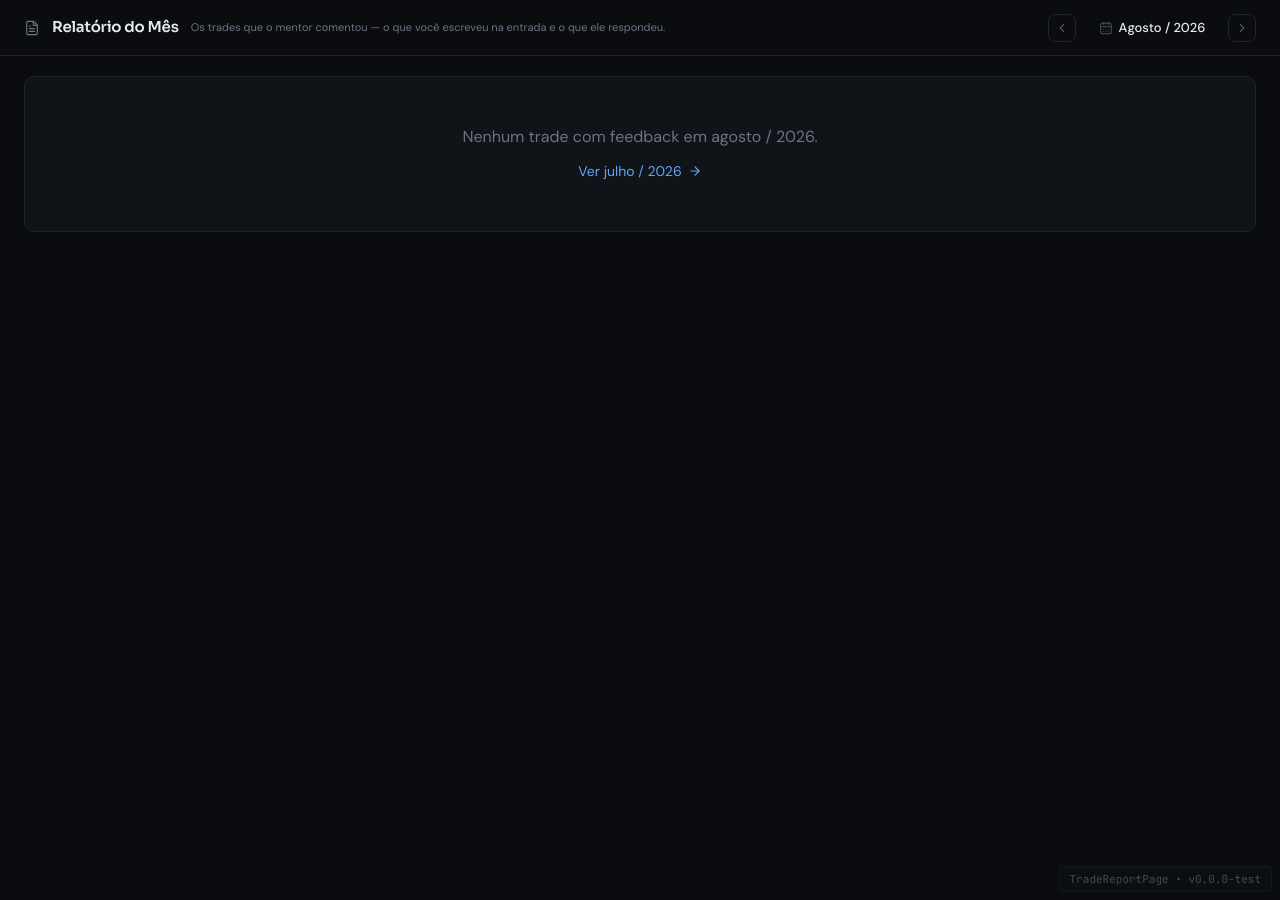
TradeReportPage › trade de outro mês só aparece ao navegar pra ele
Check: the text "WDOU26" is not shown
Check: the text "Nenhum trade com feedback em agosto / 2026." is shown, box [462,126,818,147]
Click the button named "Mês anterior" at (1062, 28), box [1048,14,1076,42]
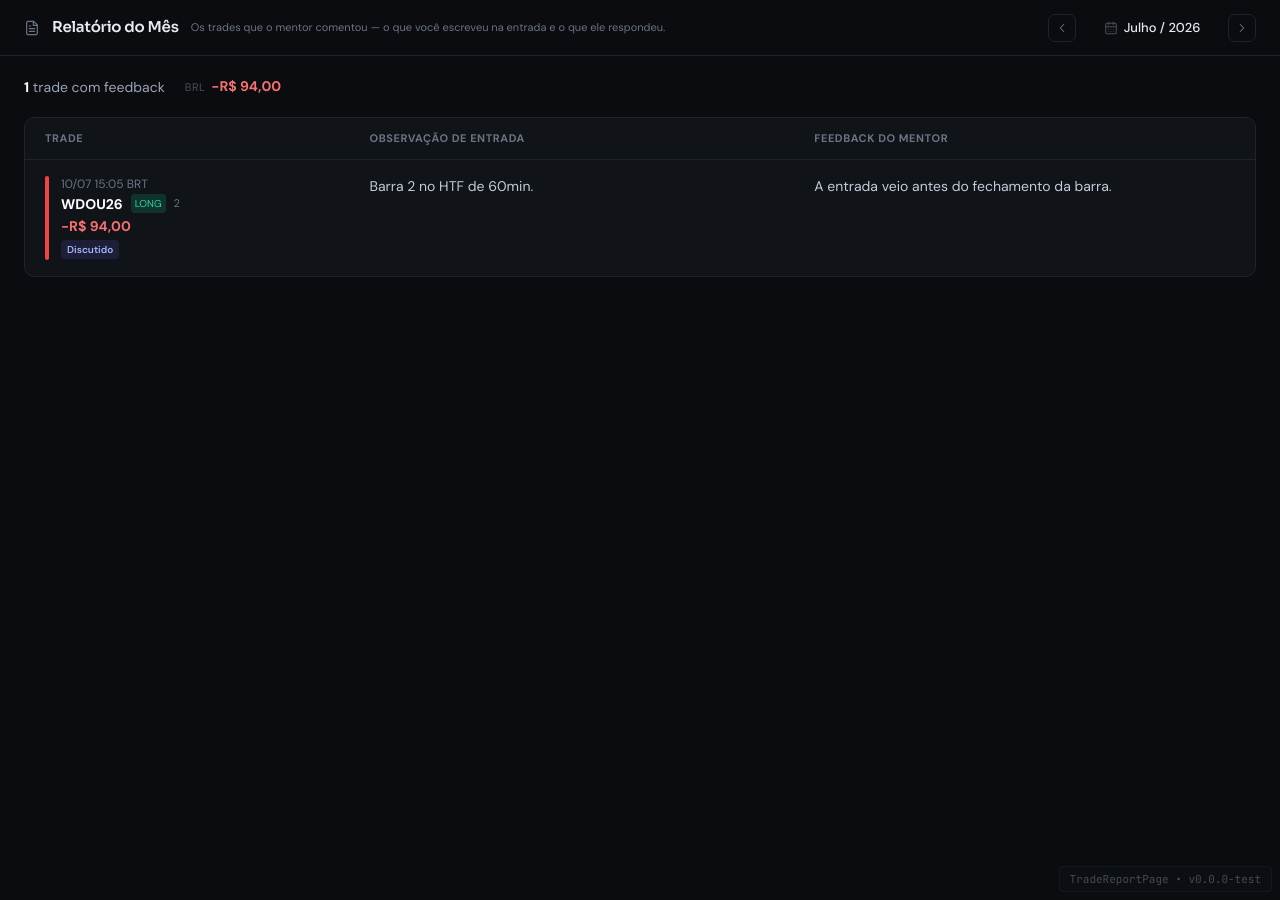
Check: the text "julho / 2026" is shown, box [1104,19,1200,36]
Check: the text "WDOU26" is shown, box [61,194,123,214]
